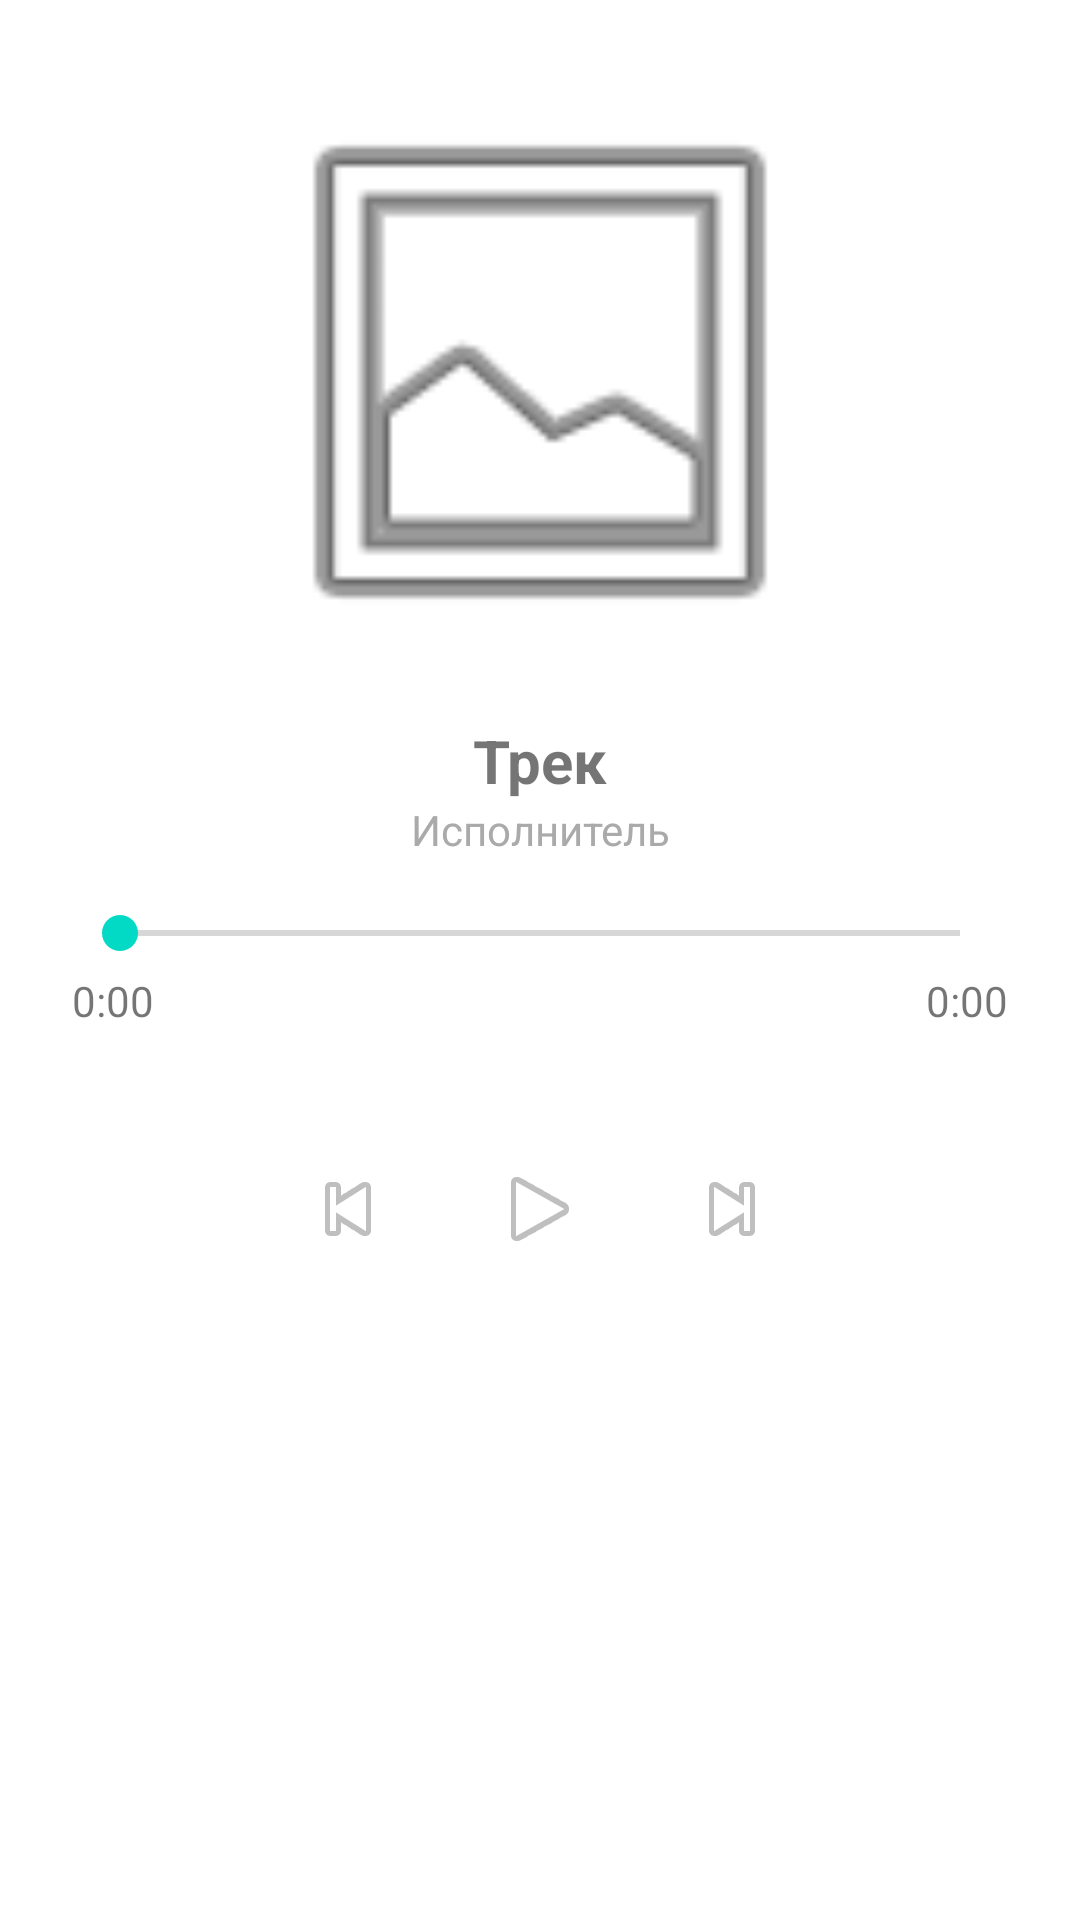

Icon bounding boxes for this 1080x1920 phone screenshot, format (x1, y1, x2, y2):
Пауза/Плей: (511, 1177, 569, 1241)
Предыдущий: (325, 1182, 371, 1236)
Следующий: (709, 1182, 755, 1236)
